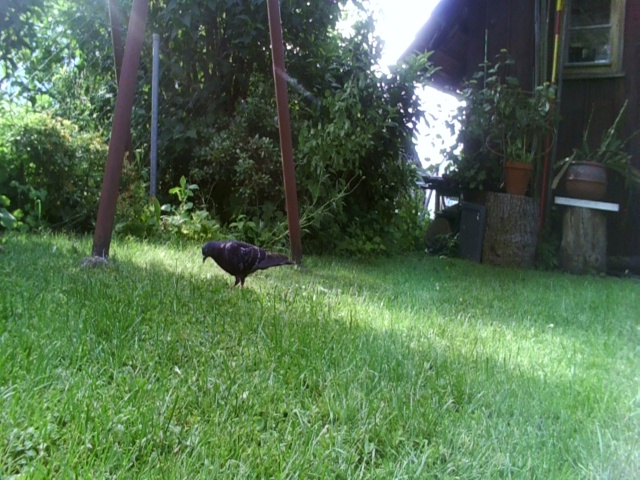Pigeon: (195, 229, 299, 295)
